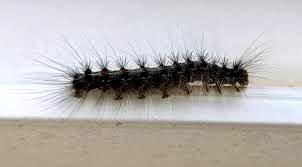Caterpillar: (69, 56, 252, 101)
